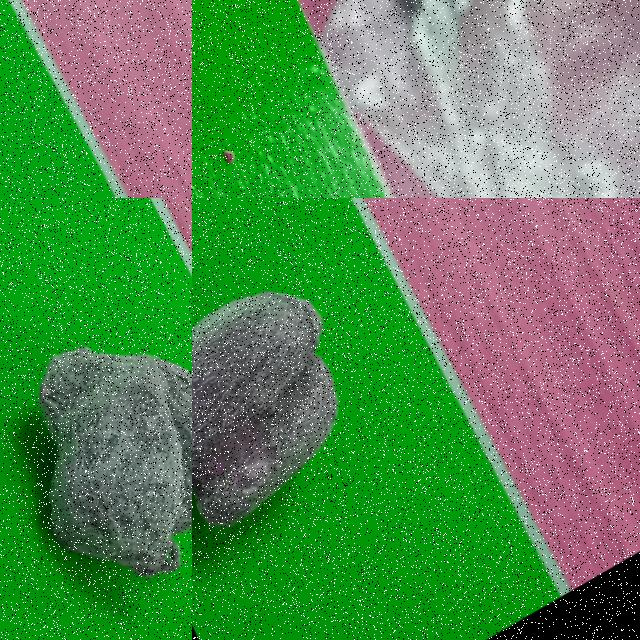Agglomerated_cocoabeans: (192, 198, 459, 639), (0, 239, 191, 639), (0, 148, 191, 197)
